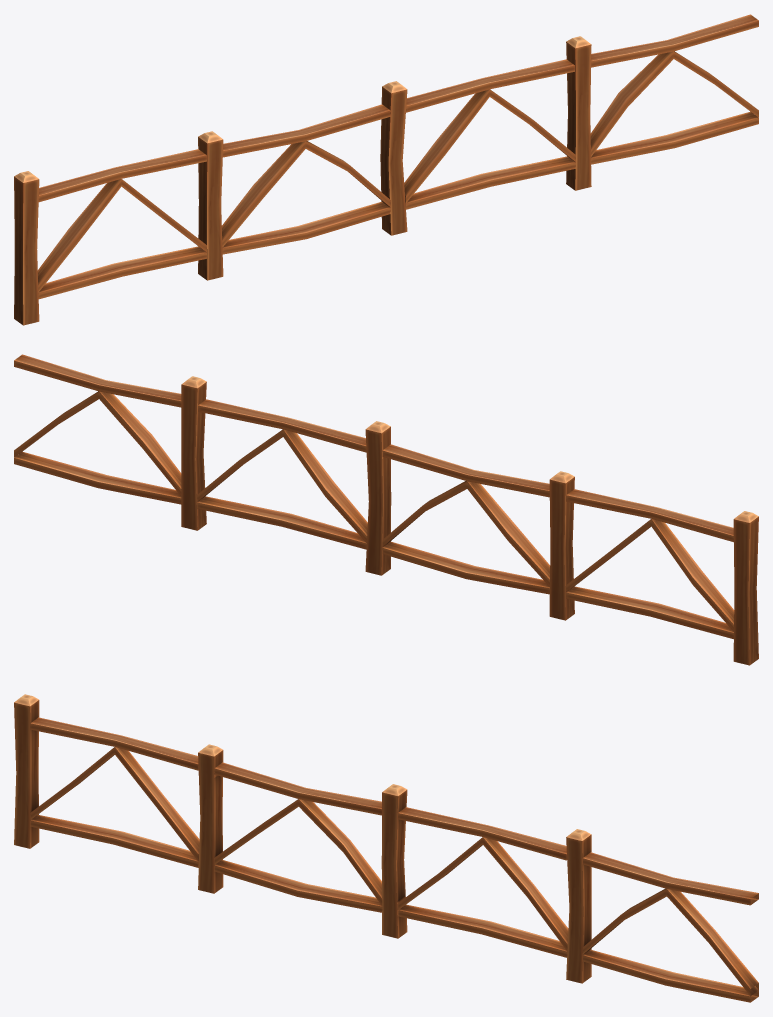
Rendered from Fences01_6.FBX.
The picture shows the model from 3 angles, top to bottom: view 1: azimuth 30°, elevation 25°; view 2: azimuth 150°, elevation 25°; view 3: azimuth 330°, elevation 25°; orthographic projection.
Parts seen in each view (by area): view 1: Fences01_6; view 2: Fences01_6; view 3: Fences01_6.
Part boxes in pixels (<box>): Fences01_6: <box>14,14,758,325</box>; Fences01_6: <box>14,354,758,665</box>; Fences01_6: <box>14,694,758,1002</box>.
Size of what is drawn, in the model's own units: 7.02 by 1.34 by 0.1726.
